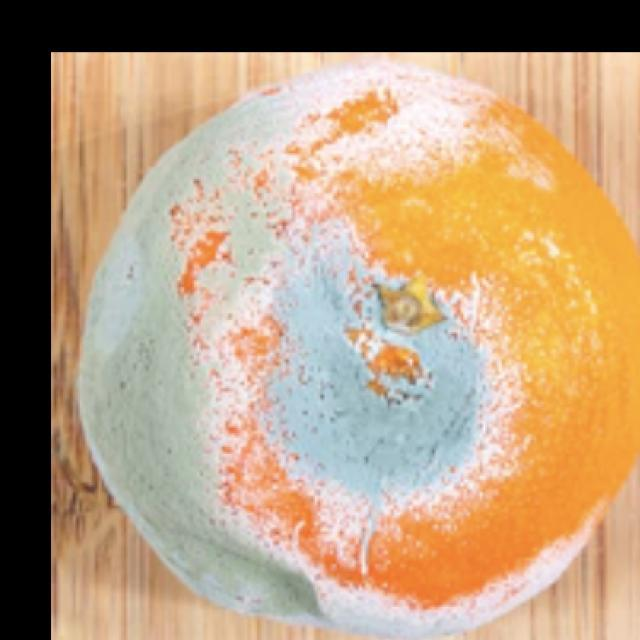sangat-busuk: (80, 62, 639, 636)
